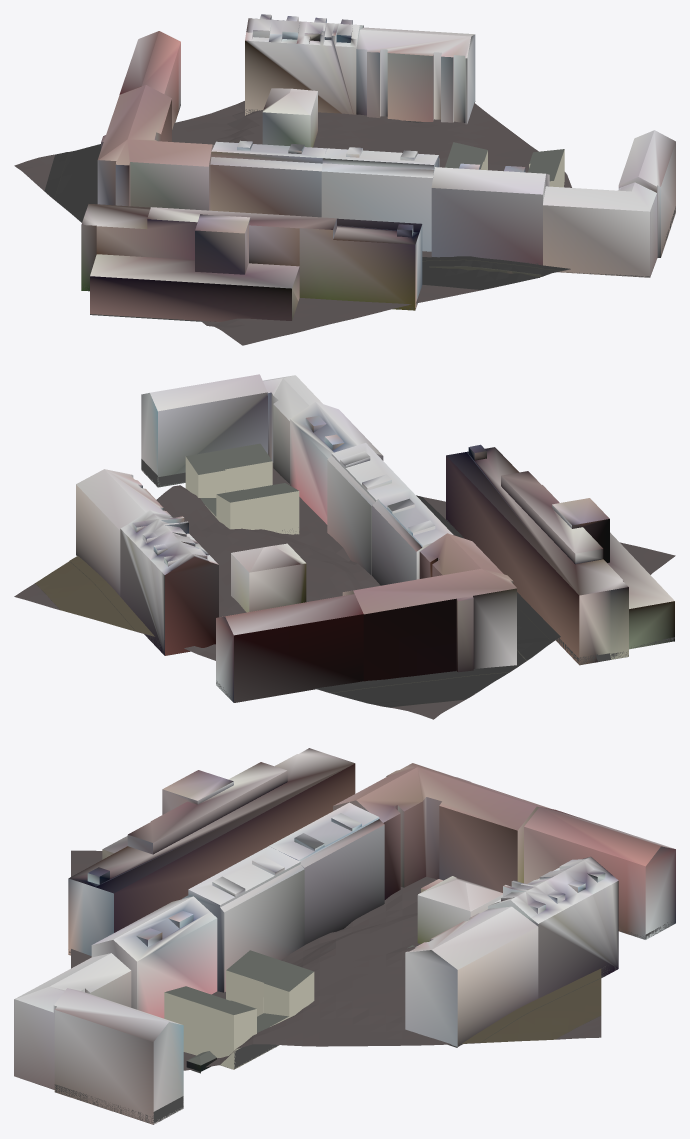
The picture shows the model from 3 angles, top to bottom: view 1: azimuth 30°, elevation 25°; view 2: azimuth 150°, elevation 25°; view 3: azimuth 270°, elevation 25°; orthographic projection. The views are drawn at different scales.
Visible parts, largest first — view 1: c_m03_m13; view 2: c_m03_m13; view 3: c_m03_m13.
Part boxes in pixels (x1,y1,x2,y2): c_m03_m13: (14, 14, 675, 345); c_m03_m13: (14, 374, 675, 719); c_m03_m13: (14, 748, 675, 1124).
Size of the model in its own units: 176 by 35.42 by 160.
